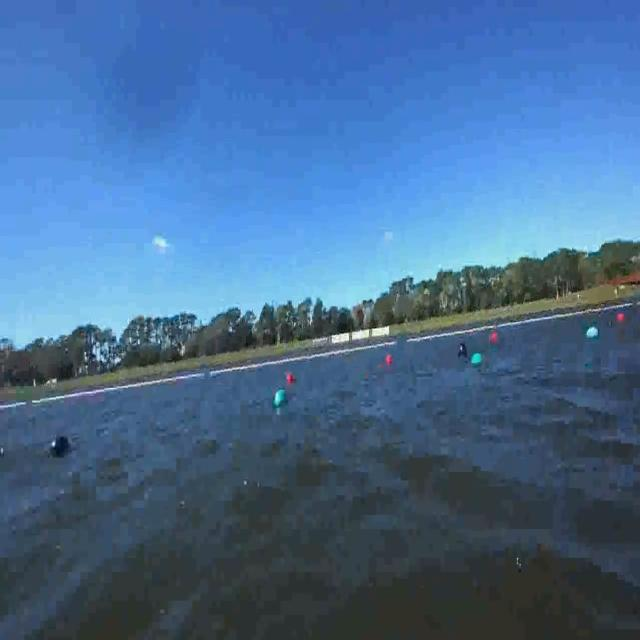black-buoy: (52, 435, 70, 459), (458, 339, 468, 357)
green-buoy: (276, 387, 286, 404), (586, 326, 600, 337), (471, 352, 481, 367)
red-buoy: (490, 333, 499, 346), (386, 354, 393, 364), (287, 374, 293, 384), (617, 314, 626, 320)
